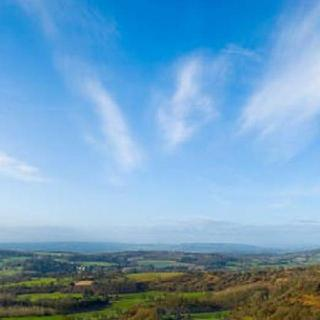Cirrus: (0, 0, 320, 242)
